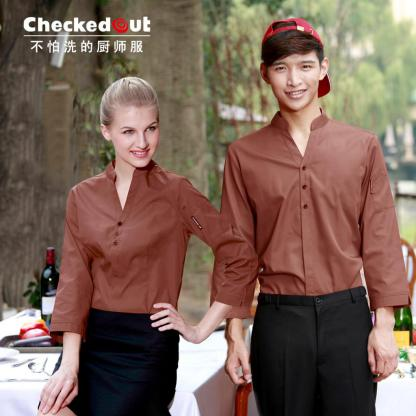face: (268, 43, 321, 113), (112, 97, 161, 168)
